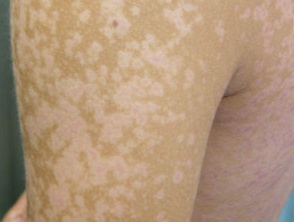SJS-TEN: (11, 0, 206, 221), (195, 0, 294, 222)
